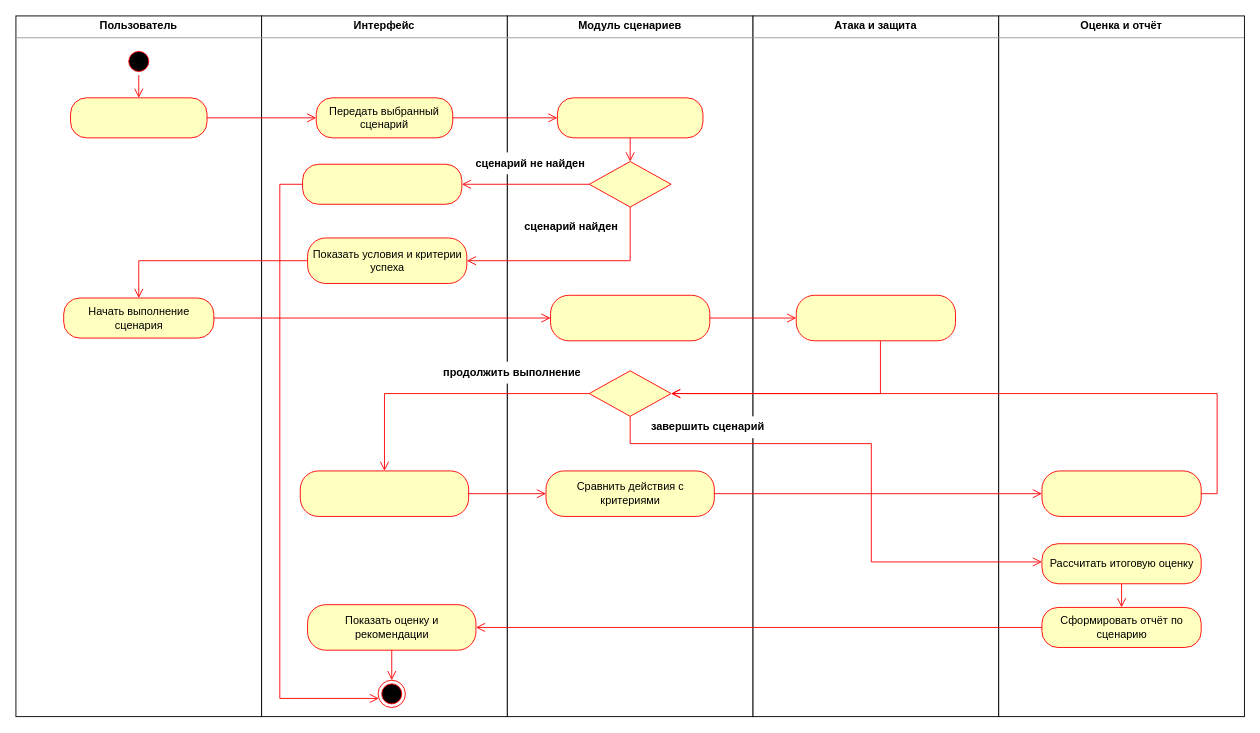
Image size: 1260x733. Some labels were removed from this diagram. The shapes that lost their labels are listed below. From the top down, each one's box as (x1, y1, x2, y2) in pixels, then its label:
(70, 97, 207, 138): Выбрать учебный сценарий
(556, 97, 703, 138): Загрузить условия и критерии
(302, 163, 462, 204): Показать сообщение об ошибке
(550, 294, 710, 341): Инициализировать атаку и защиту
(795, 294, 956, 341): Подготовить параметры атаки и защиты
(299, 470, 469, 516): Зафиксировать действия пользователя
(1041, 470, 1201, 516): Обновить промежуточный прогресс
